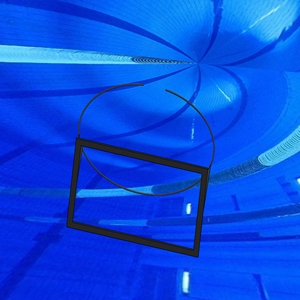circle: (66, 82, 217, 259)
